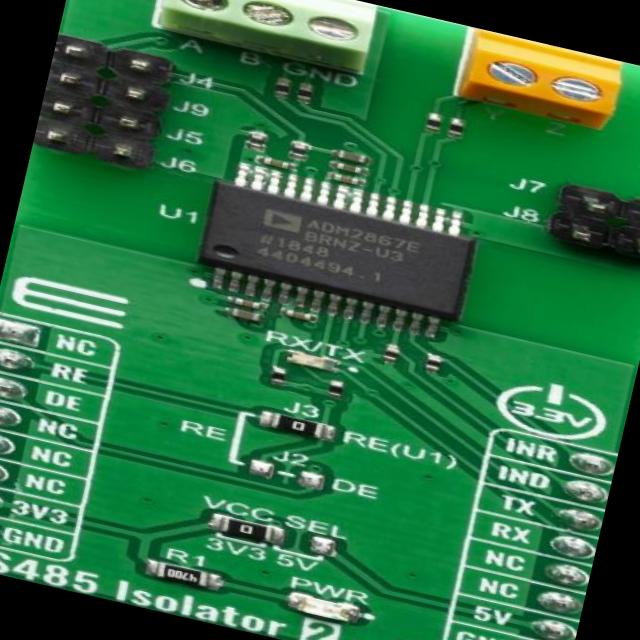IC: (194, 166, 482, 332)
LED: (295, 595, 355, 625), (284, 347, 338, 372)
capacitor: (336, 148, 368, 165), (230, 306, 264, 322), (333, 160, 365, 176), (283, 308, 317, 322), (260, 156, 292, 169), (332, 174, 361, 187), (234, 297, 262, 309)
connector: (34, 33, 177, 172), (150, 0, 383, 78), (458, 30, 626, 130), (546, 180, 640, 270)
resistor: (150, 561, 212, 591), (218, 515, 278, 545), (269, 412, 329, 441), (246, 133, 267, 150), (446, 120, 464, 136), (296, 86, 312, 102), (271, 367, 286, 384), (290, 142, 306, 156), (330, 383, 346, 396), (382, 346, 398, 359), (273, 82, 289, 95), (426, 116, 440, 130), (425, 358, 441, 370)
